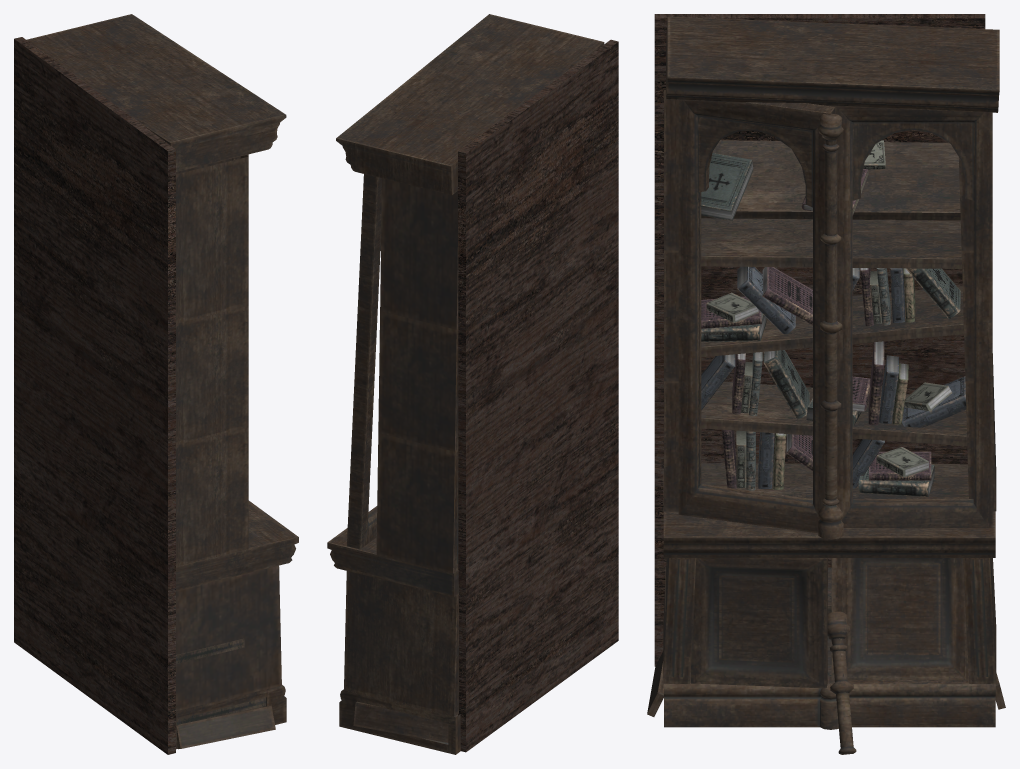
The model's file is SM_BookShelft_02.fbx.
3 renders of one model, left to right at view 1: azimuth 30°, elevation 25°; view 2: azimuth 150°, elevation 25°; view 3: azimuth 270°, elevation 25°, orthographic. The views are drawn at different scales.
Parts seen in each view (by area): view 1: SM_Bookshelf_02_LOD0; view 2: SM_Bookshelf_02_LOD0; view 3: SM_Bookshelf_02_LOD0.
Boxes of the visible parts, x1,y1,x2,y2 form: SM_Bookshelf_02_LOD0: [14, 14, 298, 754]; SM_Bookshelf_02_LOD0: [327, 14, 618, 754]; SM_Bookshelf_02_LOD0: [647, 14, 1005, 754].
Bounding box in the file's own units: 89.63 × 298 × 148.
